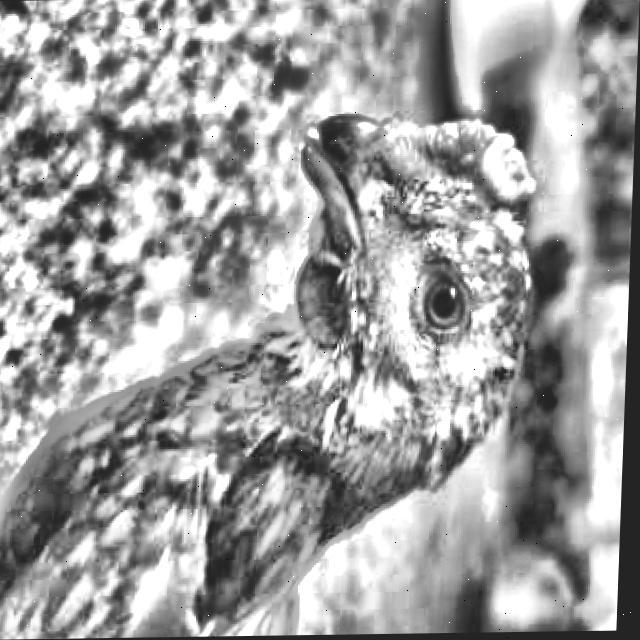Healthy: (405, 224, 488, 382)
